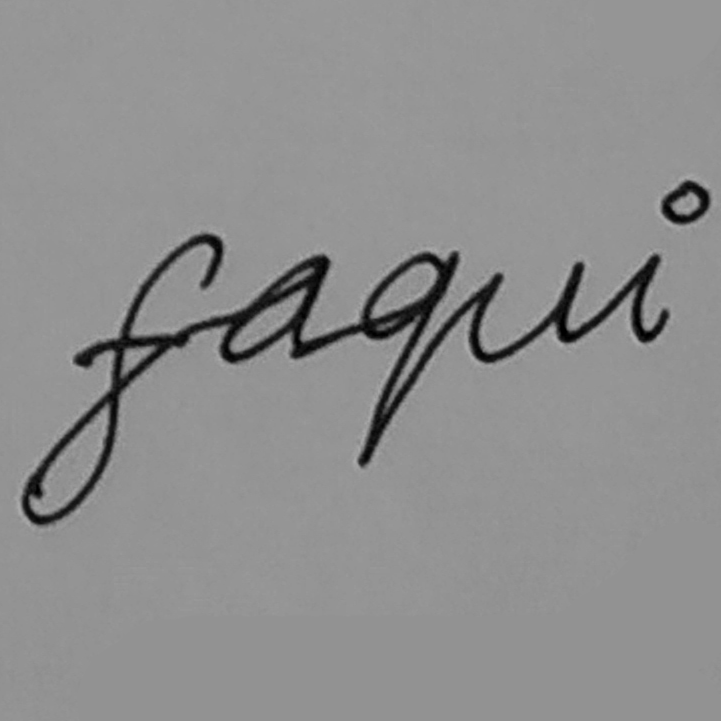a: (216, 251, 331, 367)
f: (17, 229, 226, 530)
i: (624, 177, 713, 345)
q: (351, 247, 461, 472)
u: (467, 255, 587, 366)
